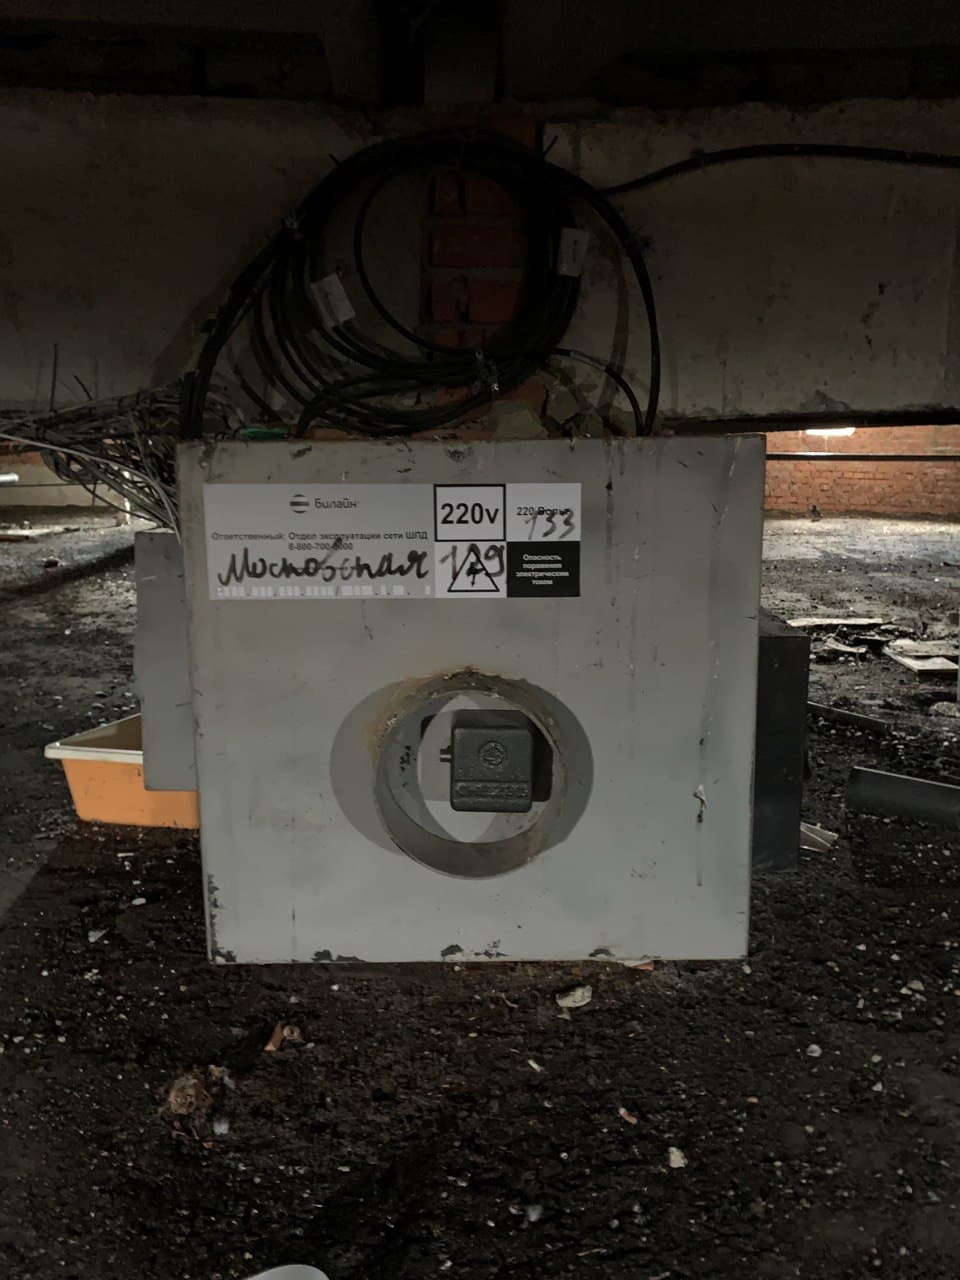shta-9: (163, 420, 776, 975)
